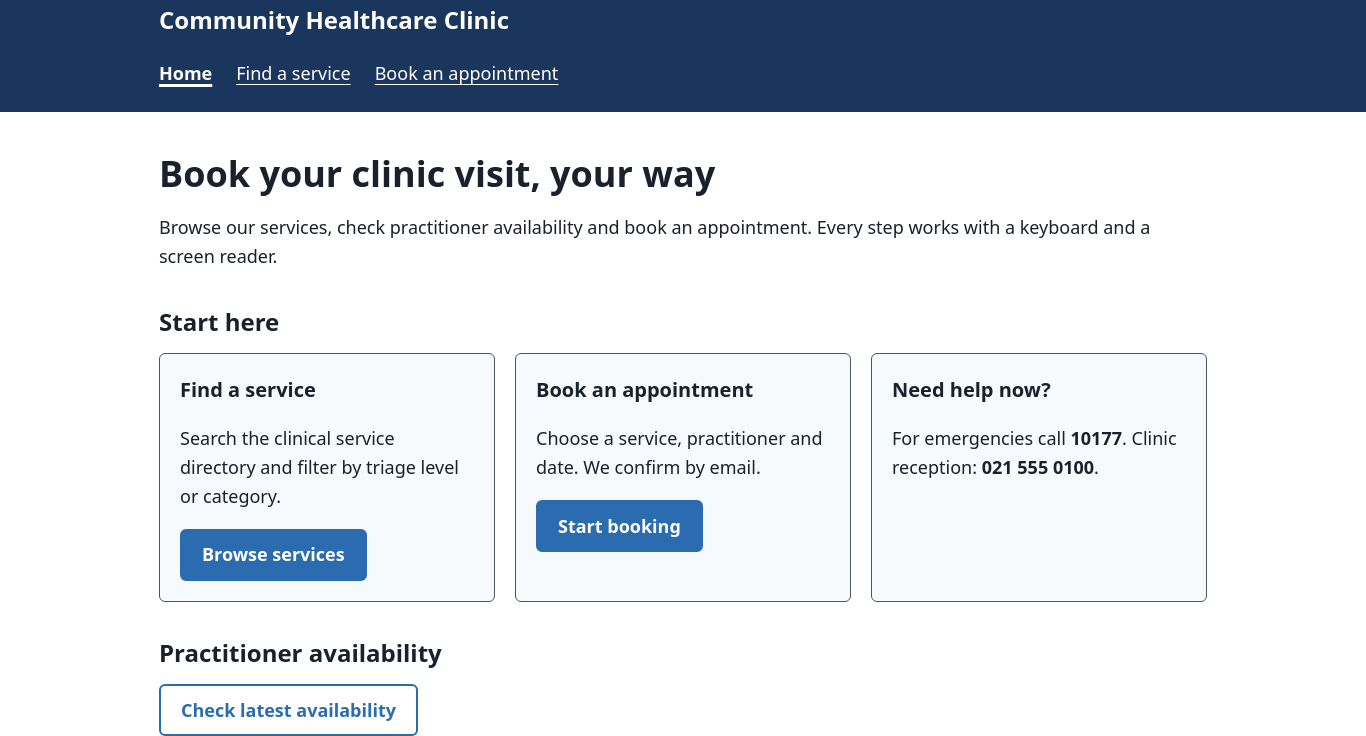
it: Accessible booking form › shows linked, announced errors after a failed submit and moves focus to the summary
What coordinates should you click on to do the following:
click the button "Book an appointment"
I would click on:
 (467, 74)
Its box is [375,51,558,96].
(page scrolled)
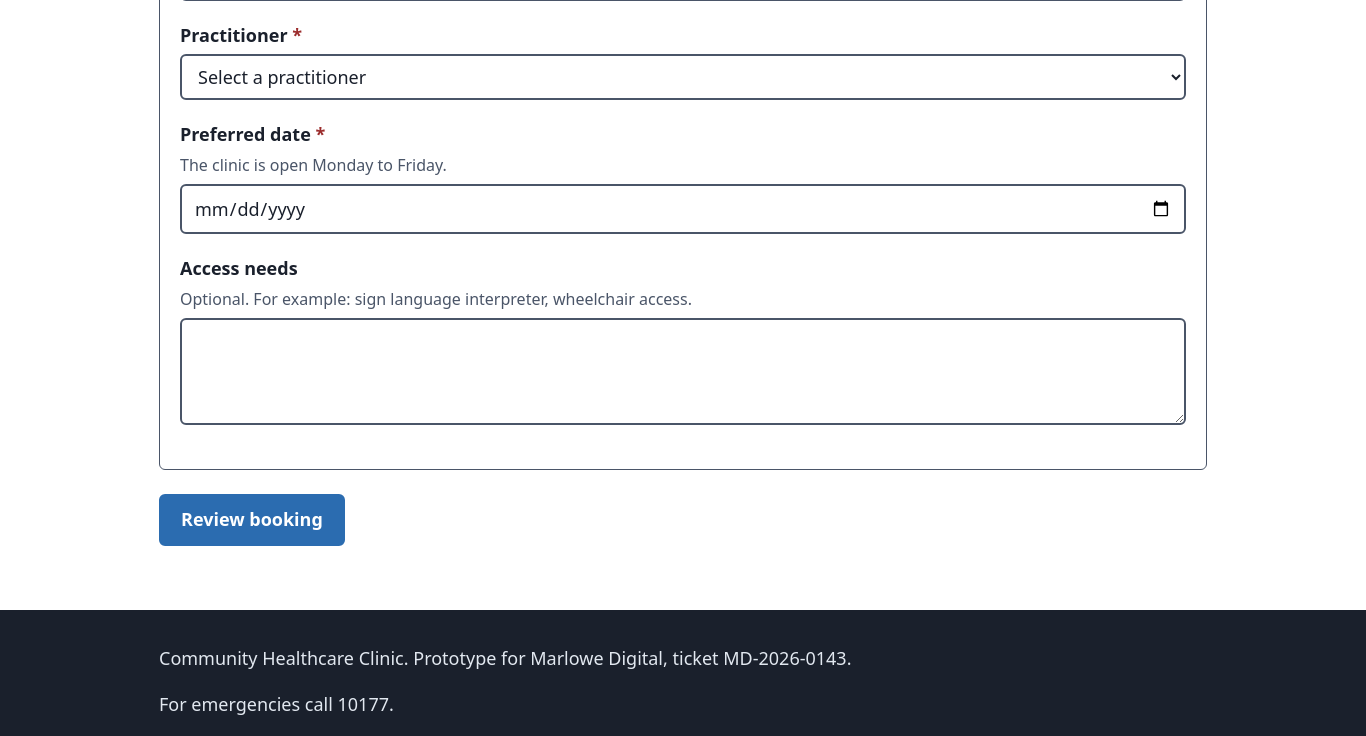
What coordinates should you click on to do the following:
click the button "Review booking"
I would click on:
 (252, 520)
Its box is [159,494,345,546].
(page scrolled)
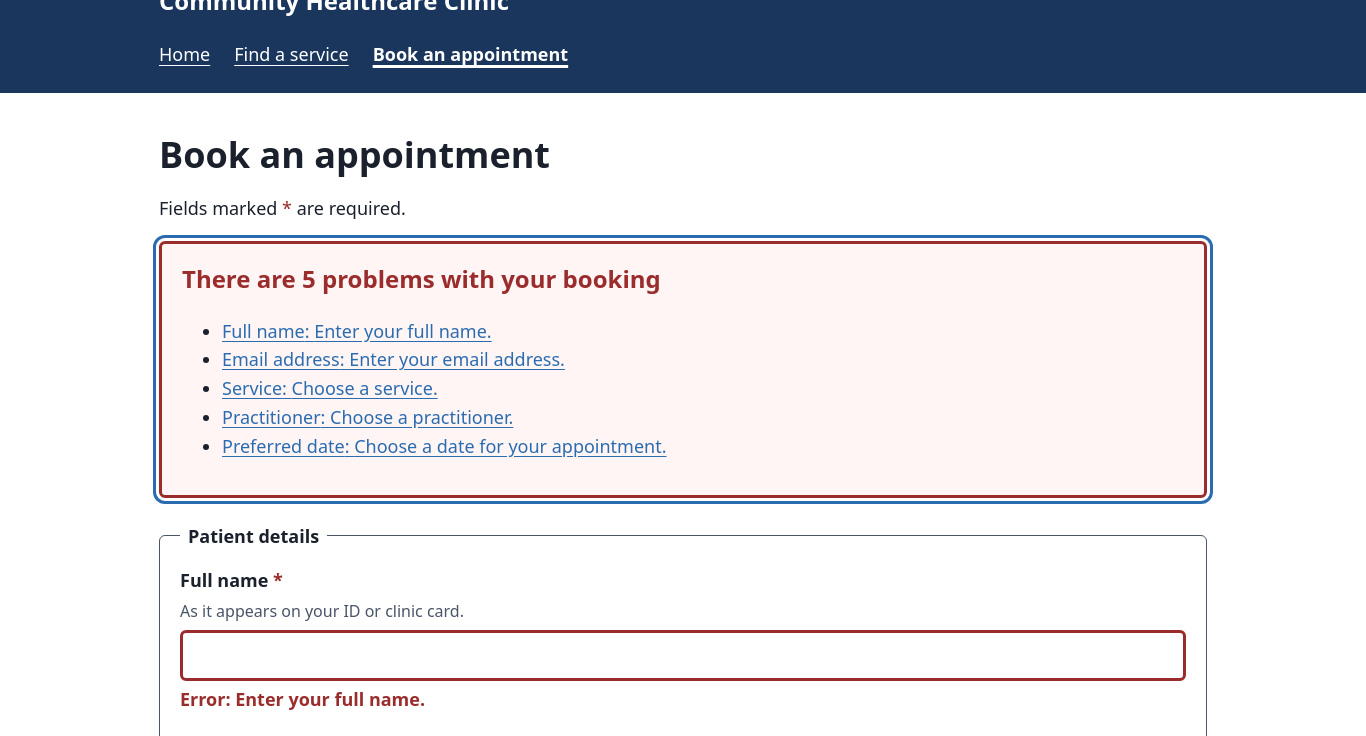
Expected: the heading "There are 5 problems with your booking" is shown, [182,262,661,295]
